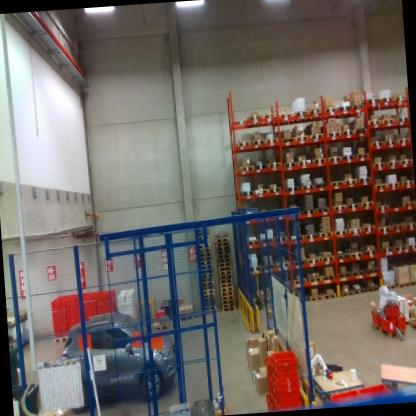pallet: (153, 318, 171, 332), (177, 303, 194, 315), (273, 258, 290, 268), (178, 313, 195, 322), (307, 274, 323, 283), (332, 203, 348, 212), (400, 199, 416, 208), (288, 208, 301, 219), (220, 272, 234, 282), (326, 130, 343, 138), (53, 335, 68, 344), (214, 229, 229, 238), (292, 256, 307, 265), (319, 254, 335, 262), (320, 273, 336, 281), (237, 139, 251, 148), (267, 160, 281, 169), (362, 225, 376, 234), (391, 222, 405, 231), (378, 225, 392, 234), (216, 235, 231, 243), (259, 235, 274, 243), (250, 262, 262, 272), (297, 158, 312, 166), (328, 156, 343, 164), (220, 293, 236, 300), (261, 110, 275, 118), (238, 164, 254, 171), (255, 188, 269, 196), (269, 187, 283, 195), (309, 293, 323, 301), (300, 182, 314, 190), (281, 135, 295, 143), (347, 202, 361, 210), (363, 249, 377, 257), (340, 289, 354, 297), (367, 284, 381, 292), (385, 160, 399, 168), (404, 220, 416, 229), (251, 139, 266, 146), (322, 292, 337, 299), (309, 133, 324, 140), (279, 112, 294, 119), (294, 110, 309, 117), (329, 181, 344, 188), (336, 253, 351, 260), (400, 180, 415, 187), (379, 97, 394, 104), (294, 276, 307, 284), (307, 255, 320, 263), (376, 203, 389, 211), (375, 183, 388, 191), (366, 97, 379, 105), (217, 240, 231, 247), (217, 248, 231, 255), (218, 261, 232, 268), (254, 163, 268, 170), (241, 189, 255, 196), (291, 233, 305, 240), (286, 185, 300, 192), (283, 161, 297, 168), (342, 154, 356, 161), (360, 201, 374, 208), (349, 227, 363, 234), (366, 268, 380, 275), (381, 118, 395, 125), (216, 244, 232, 250), (220, 297, 236, 303), (247, 237, 259, 245), (353, 287, 365, 295), (388, 181, 400, 189), (218, 256, 231, 263), (202, 273, 215, 280), (274, 235, 287, 242), (314, 182, 327, 189), (356, 152, 369, 159), (380, 246, 393, 253), (394, 245, 407, 252), (371, 141, 384, 148), (384, 139, 397, 146), (397, 137, 410, 144), (220, 290, 235, 296), (222, 306, 237, 312), (246, 114, 261, 120), (312, 157, 327, 163), (351, 270, 366, 276), (398, 159, 413, 165), (298, 295, 309, 303), (219, 302, 236, 307), (217, 252, 231, 258), (219, 269, 233, 275), (220, 278, 234, 284), (220, 282, 234, 288), (266, 137, 278, 144), (305, 232, 319, 238), (318, 230, 332, 236), (315, 207, 329, 213), (302, 210, 316, 216), (295, 135, 309, 141), (324, 107, 338, 113), (337, 105, 351, 111), (343, 130, 355, 137), (344, 179, 358, 185), (336, 230, 348, 237), (349, 251, 363, 257), (396, 282, 410, 288), (393, 96, 407, 102), (195, 215, 208, 221), (263, 264, 276, 270), (351, 104, 364, 110), (338, 273, 351, 279), (373, 162, 386, 168), (369, 119, 382, 125), (201, 260, 212, 267), (360, 177, 371, 184), (203, 293, 215, 299), (202, 281, 214, 287), (355, 127, 367, 133), (220, 286, 234, 291), (205, 310, 219, 315), (203, 297, 216, 302), (308, 109, 321, 114), (396, 117, 409, 122), (204, 301, 216, 306), (202, 277, 214, 282), (200, 248, 210, 254), (203, 285, 214, 290), (202, 269, 213, 274), (202, 265, 213, 270), (198, 230, 209, 235), (219, 266, 232, 270), (386, 284, 396, 289), (203, 290, 215, 294), (408, 244, 416, 250), (200, 244, 209, 249), (205, 306, 216, 310), (200, 257, 211, 261), (198, 227, 209, 231), (200, 253, 210, 257), (199, 235, 208, 239), (201, 240, 210, 243), (411, 280, 416, 285)
pallet_truck: (253, 273, 264, 309), (284, 270, 292, 293), (271, 271, 273, 276)
small_load_carrier: (358, 380, 403, 403), (272, 347, 300, 379), (274, 381, 306, 406), (329, 388, 368, 407), (272, 395, 307, 411), (371, 304, 387, 333), (378, 313, 397, 335), (383, 300, 401, 319), (396, 309, 408, 333), (264, 353, 272, 379), (269, 357, 277, 382), (153, 307, 167, 321), (264, 393, 273, 412), (60, 326, 70, 338), (53, 328, 61, 337)
